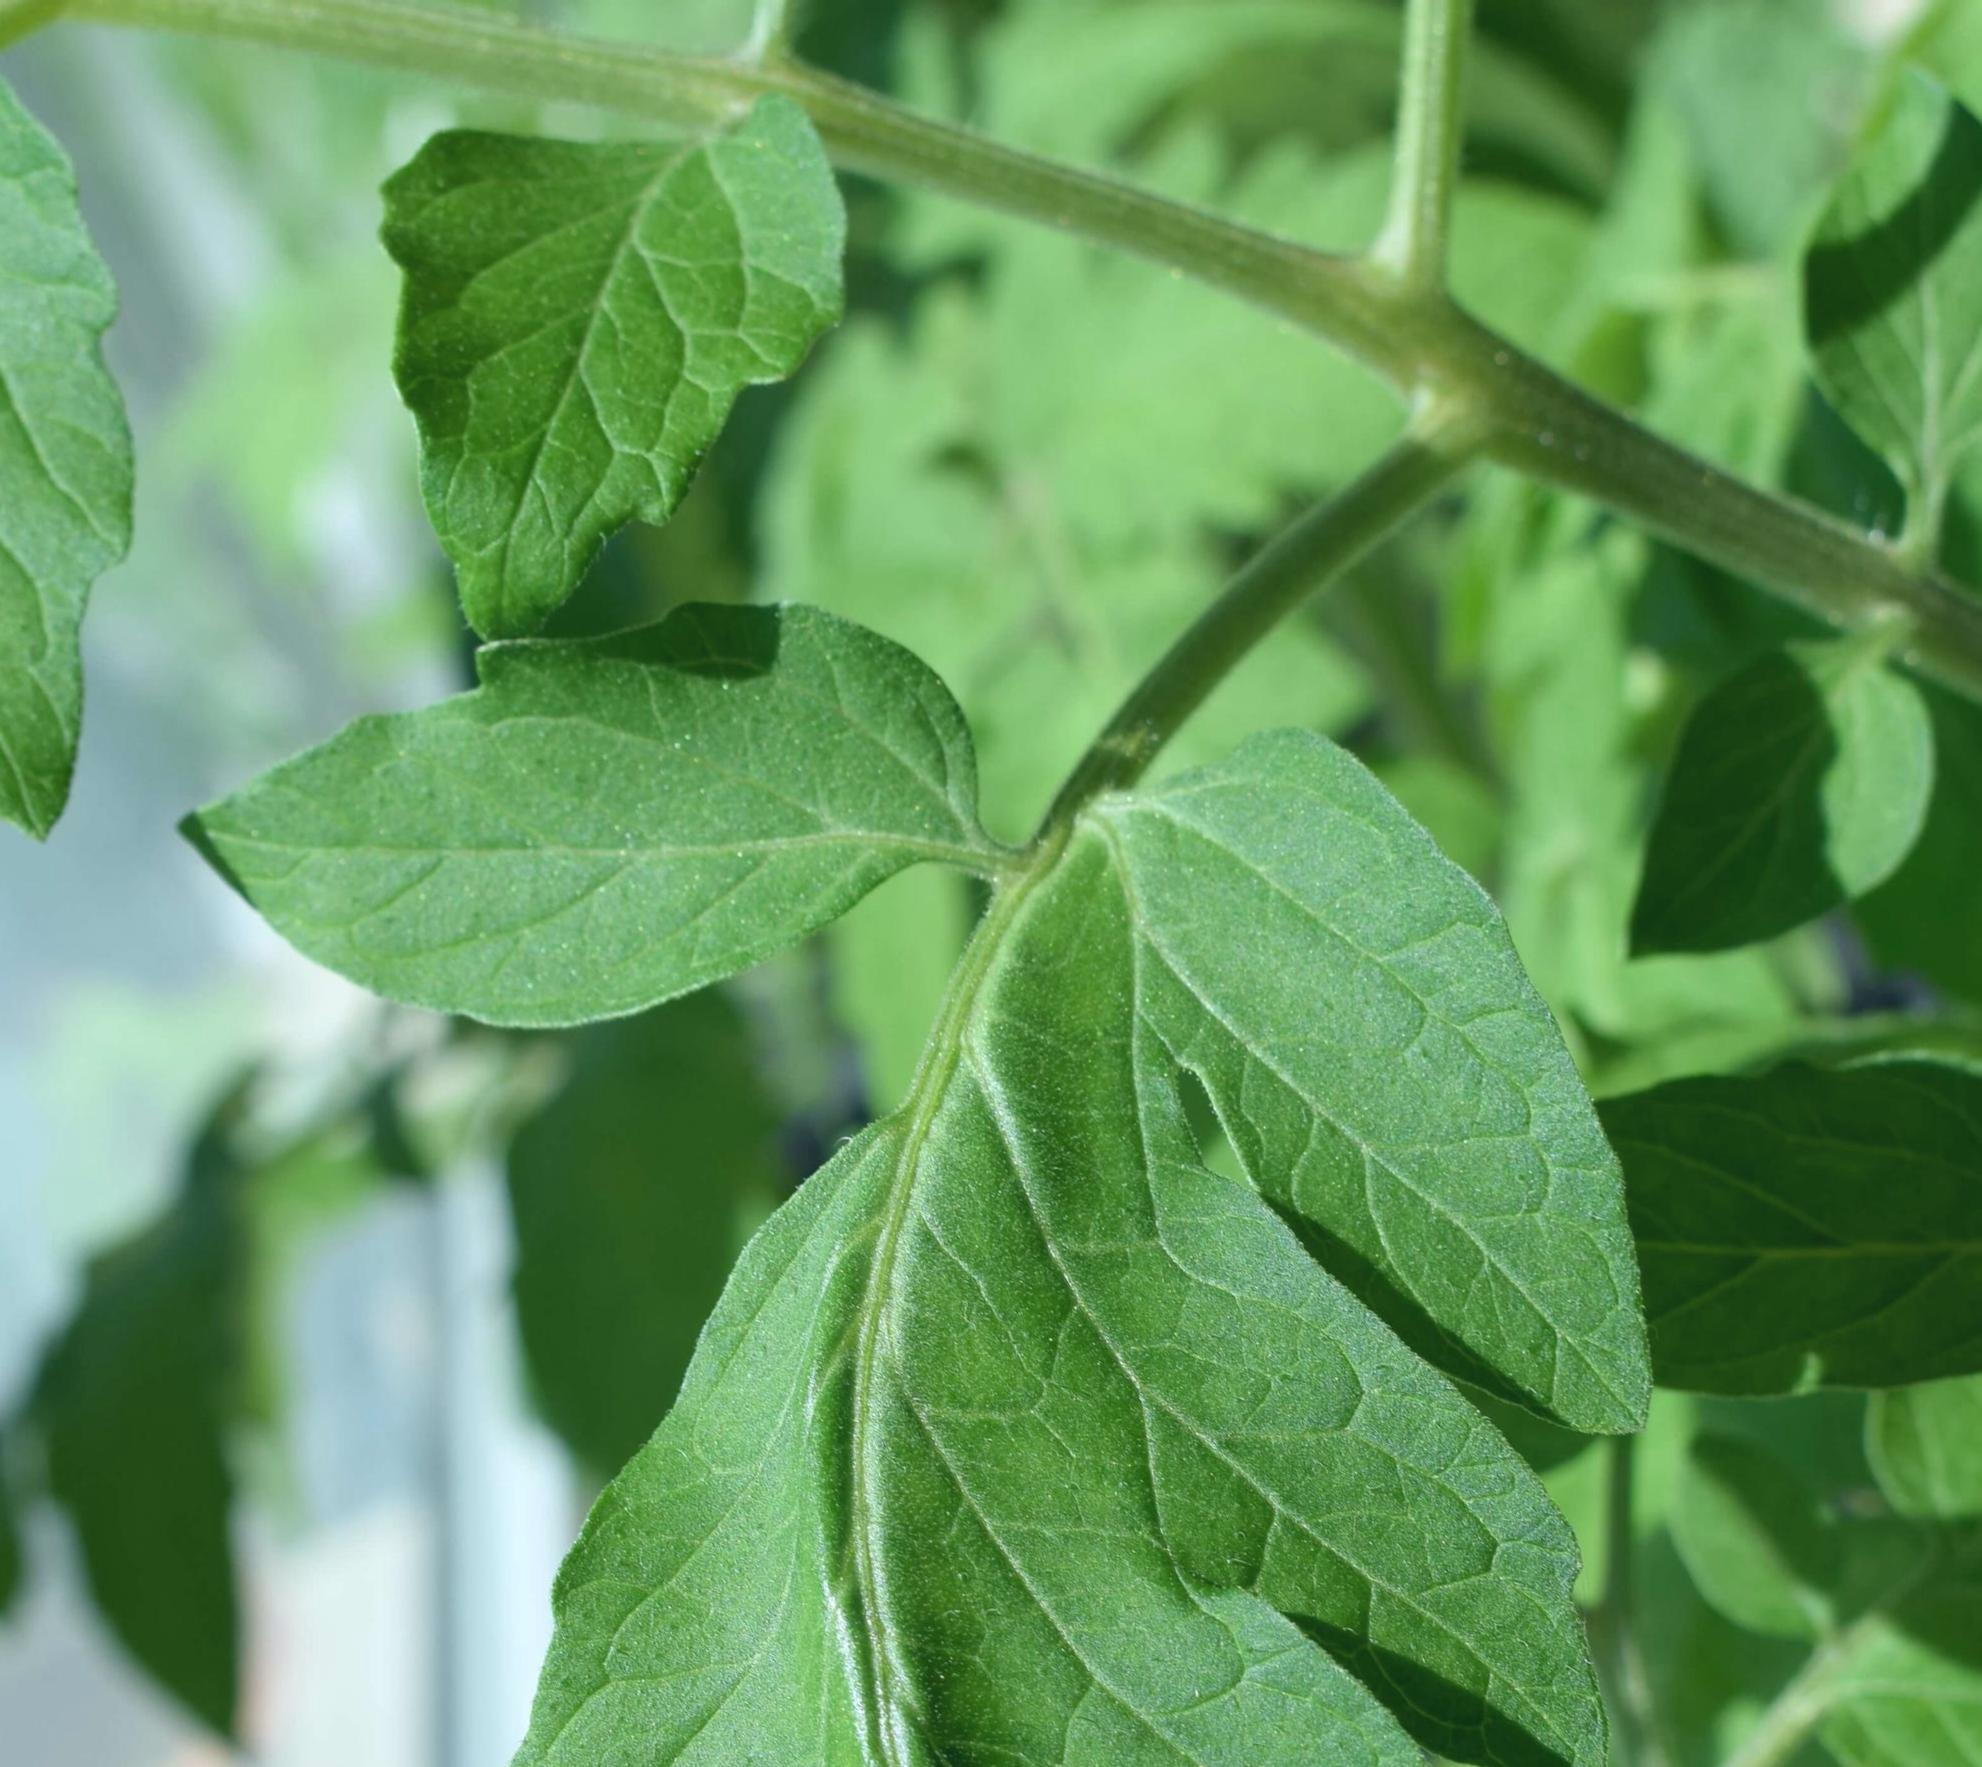Tomato leaf: (547, 657, 1836, 1767), (225, 585, 1052, 1080), (364, 18, 969, 691), (0, 57, 197, 974)
